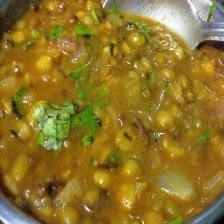sabzi: (1, 0, 224, 224)
